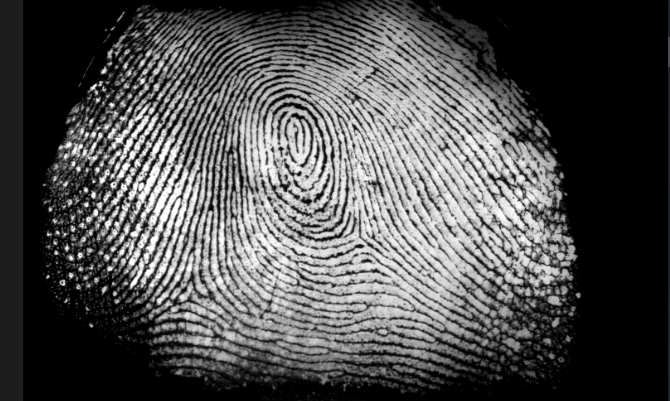nucelo: (282, 115, 309, 154)
verticilo: (171, 280, 202, 304), (347, 225, 370, 247)
